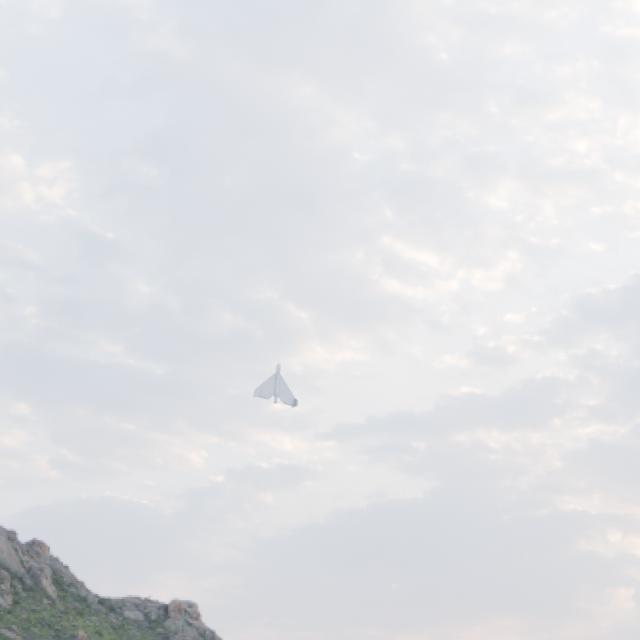Airaplan: (253, 363, 298, 409)
